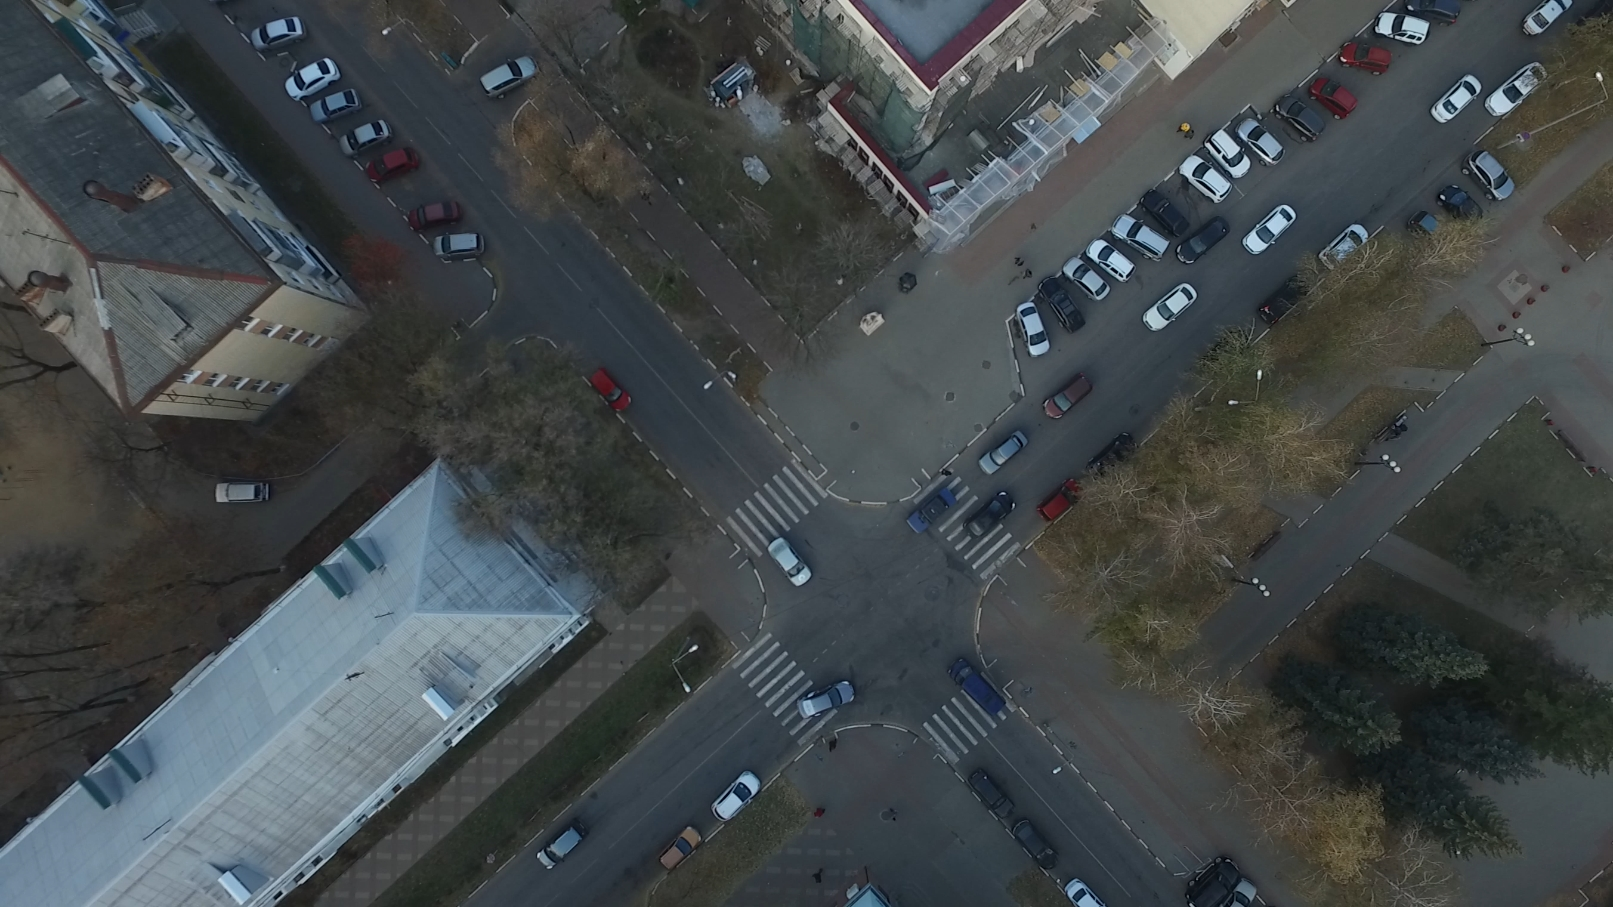car: (945, 657, 1004, 718), (1483, 63, 1550, 114), (1181, 853, 1241, 907), (1110, 212, 1169, 266), (1458, 147, 1516, 200), (1240, 207, 1302, 256), (706, 767, 762, 821), (531, 821, 589, 872), (1141, 282, 1200, 332), (1174, 217, 1233, 266), (1177, 157, 1232, 208), (1254, 274, 1312, 322), (479, 56, 546, 97), (1428, 73, 1480, 124), (963, 491, 1016, 540), (282, 56, 342, 101), (975, 427, 1029, 476), (1036, 274, 1083, 329), (1316, 221, 1374, 267), (1059, 255, 1111, 305), (1083, 430, 1139, 476), (1086, 234, 1136, 285), (1236, 115, 1284, 168), (1273, 89, 1321, 142), (905, 489, 960, 535), (1435, 182, 1484, 231), (1011, 820, 1054, 878), (1040, 372, 1095, 418), (1199, 131, 1249, 179), (966, 767, 1011, 821), (795, 678, 854, 719), (1137, 189, 1189, 235), (1309, 76, 1358, 124), (767, 537, 812, 588), (1032, 478, 1086, 521), (251, 16, 306, 56), (657, 825, 705, 870), (1378, 8, 1429, 50), (305, 87, 361, 124), (340, 118, 391, 158), (590, 365, 634, 412), (1013, 300, 1048, 357), (1338, 38, 1388, 78), (364, 151, 422, 184), (1406, 208, 1449, 249), (1521, 1, 1571, 37), (213, 477, 267, 504), (432, 231, 484, 259), (408, 203, 461, 229), (1060, 876, 1105, 907), (1412, 1, 1452, 29)
